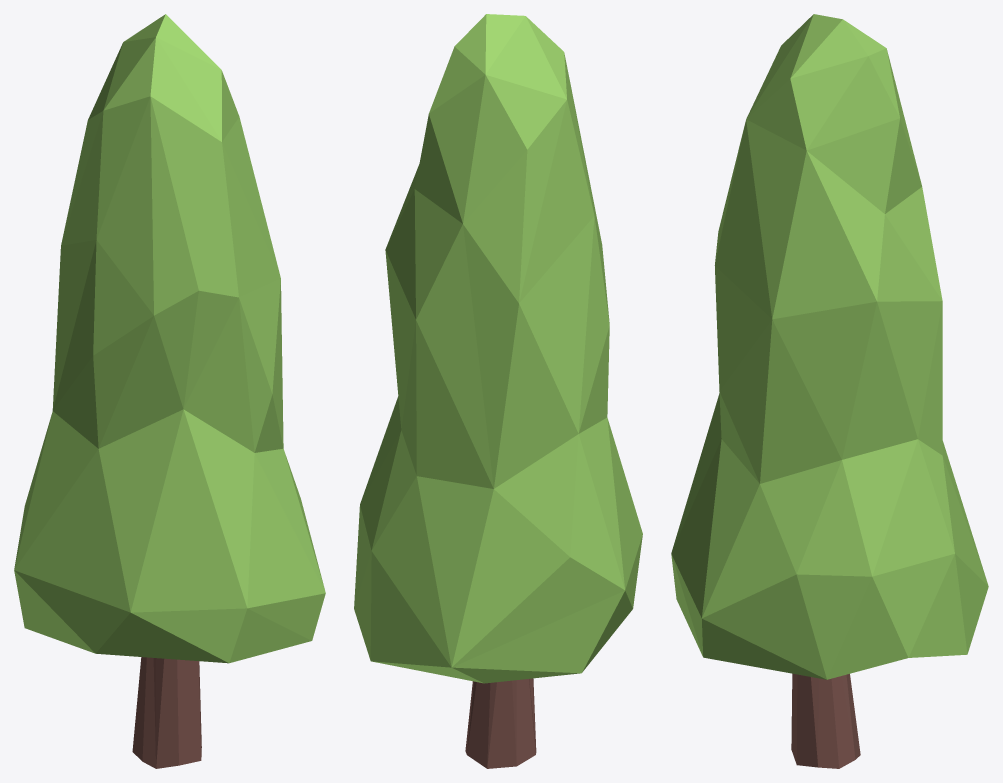
File: arbol1.gltf
3 views of the same model, side by side, from view 1: azimuth 30°, elevation 25°; view 2: azimuth 150°, elevation 25°; view 3: azimuth 270°, elevation 25° (orthographic).
Parts seen in each view (by area): view 1: leaves; view 2: leaves; view 3: leaves.
Boxes of the visible parts, left/top/right/bottom form: leaves: left=14, top=14, right=325, bottom=768; leaves: left=354, top=14, right=642, bottom=768; leaves: left=671, top=14, right=988, bottom=768.
Size of the model in its own units: 3.14 by 8.53 by 3.32.
